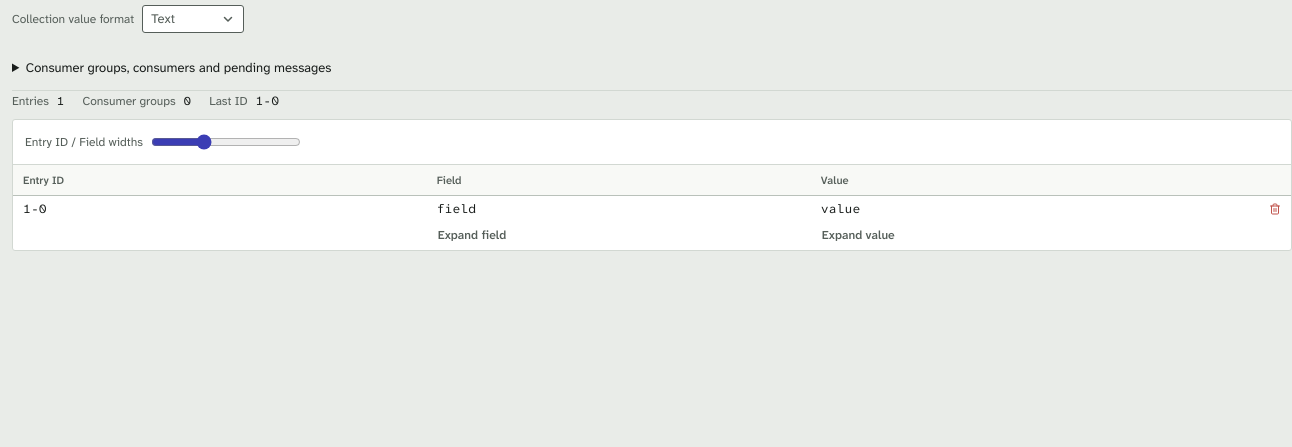
Test: F3 in-place formats and widths › expands stream fields and values beneath the whole entry row
Click the button "Expand field".
click(472, 235)  # box [429,223,515,247]
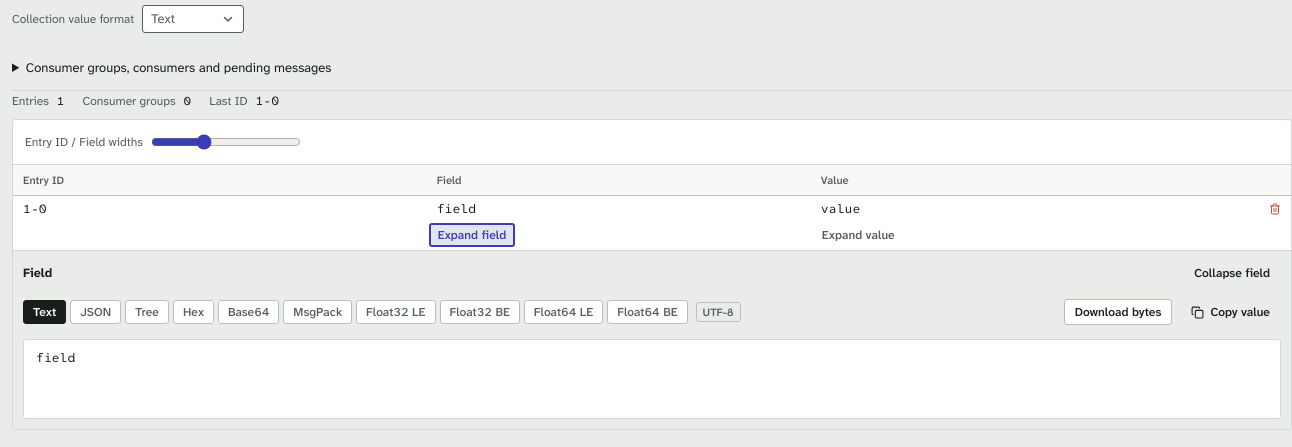
Click the button "Expand value".
click(858, 235)  # box [813,223,904,247]
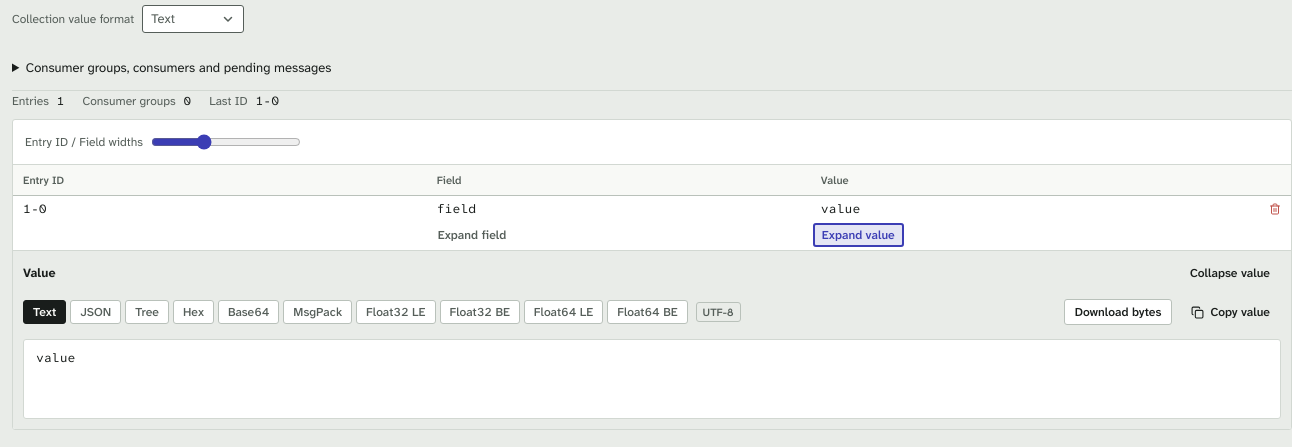
expect the number of elements with test id "value-format" is 1: met, box [23,300,688,324]
expect the text with test id "key-value" reads "value": met, box [36,350,76,366]
